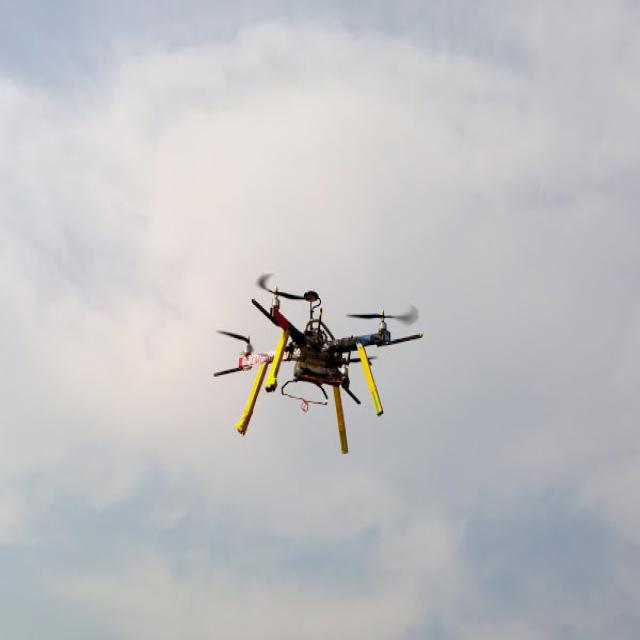drone: (182, 261, 431, 421)
